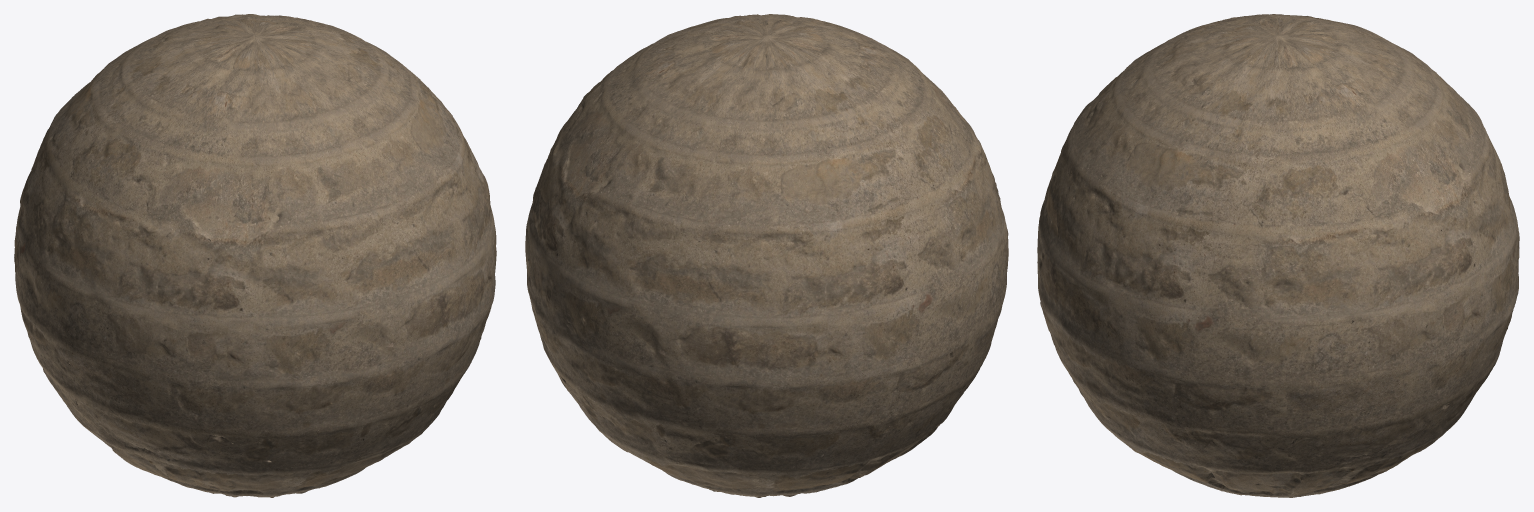
The model's file is old_stone_wall_02_1k.gltf.
The picture shows the model from 3 angles, left to right: view 1: azimuth 30°, elevation 25°; view 2: azimuth 150°, elevation 25°; view 3: azimuth 270°, elevation 25°; orthographic projection.
Parts seen in each view (by area): view 1: sphere_gltf; view 2: sphere_gltf; view 3: sphere_gltf.
Part boxes in pixels (x1,y1,x2,y2): sphere_gltf: (14, 14, 496, 497); sphere_gltf: (525, 14, 1008, 497); sphere_gltf: (1037, 14, 1519, 497).
Size of the model in its own units: 2.07 by 2.08 by 2.07.
1 material, 1 textured.
